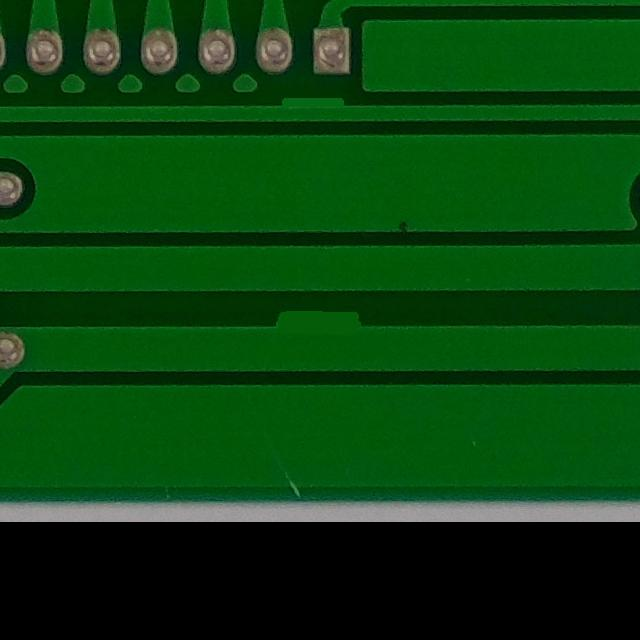spur: (262, 292, 378, 348)
